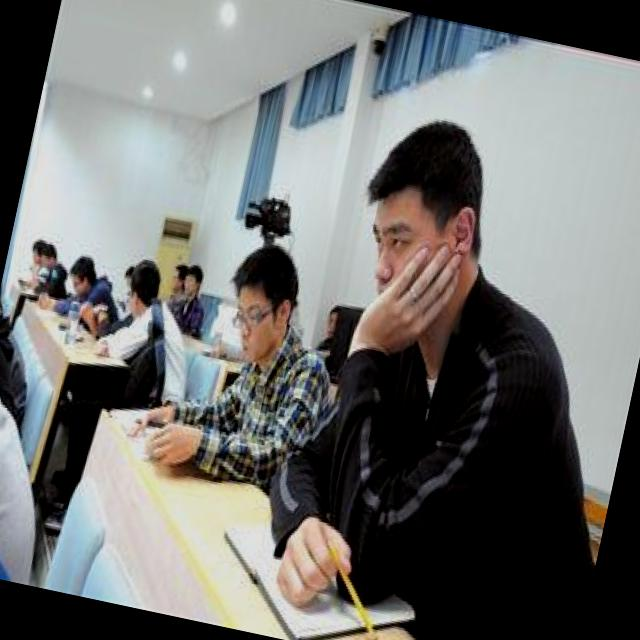no-goggles: (358, 206, 462, 277)
no-helmet: (358, 106, 512, 260), (222, 230, 310, 322), (116, 253, 168, 310), (64, 248, 100, 292)
no-vest: (316, 280, 608, 638), (195, 328, 326, 498), (134, 306, 186, 377)
